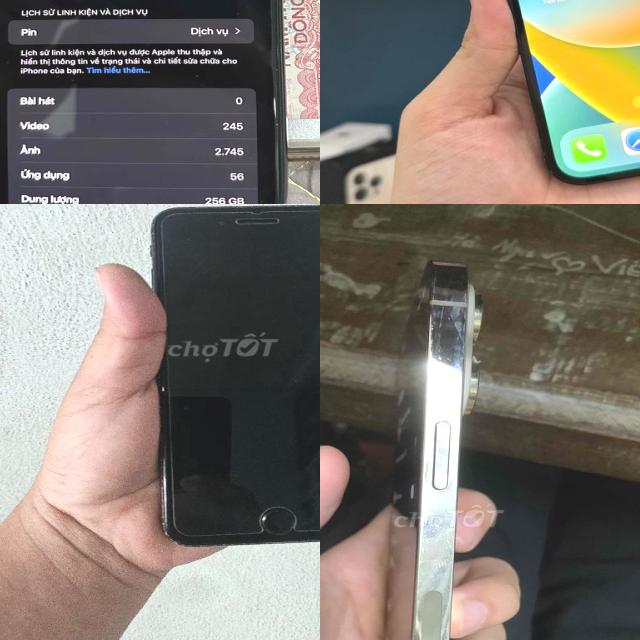gen_11: (0, 0, 290, 204)
gen_12_13: (467, 0, 640, 183)
gen_14: (364, 248, 488, 640)
gen_7_8: (142, 204, 320, 549)
scratch: (411, 286, 475, 406), (410, 491, 470, 606), (166, 534, 320, 545), (169, 204, 320, 215), (156, 458, 173, 538), (144, 210, 160, 288), (155, 382, 166, 394), (256, 511, 269, 521), (287, 520, 299, 528)
